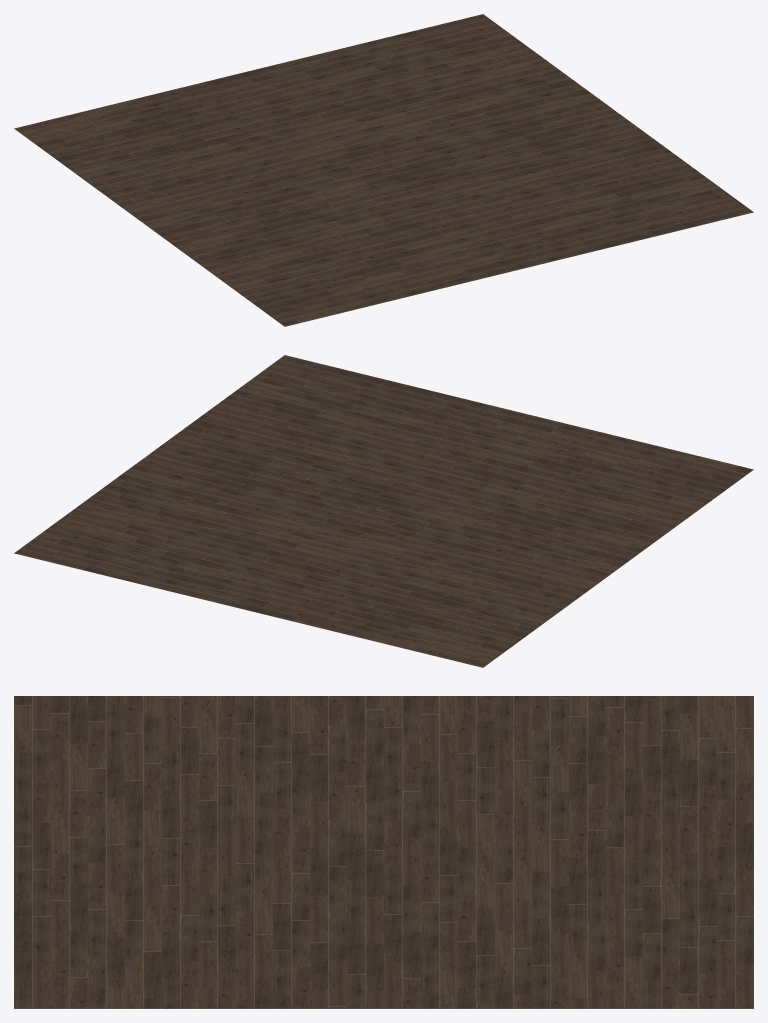
Rendered from leo-forest-20x120.glb.
3 renders of one model, top to bottom at view 1: azimuth 30°, elevation 25°; view 2: azimuth 150°, elevation 25°; view 3: azimuth 270°, elevation 25°, orthographic. The views are drawn at different scales.
Parts seen in each view (by area): view 1: Leo Forest; view 2: Leo Forest; view 3: Leo Forest.
Boxes of the visible parts, x1,y1,x2,y2 form: Leo Forest: (14, 14, 753, 326); Leo Forest: (14, 355, 753, 667); Leo Forest: (14, 696, 753, 1008).
Bounding box in the file's own units: 8 × 0.003 × 8.
Materials: 2 (1 with a texture image).
